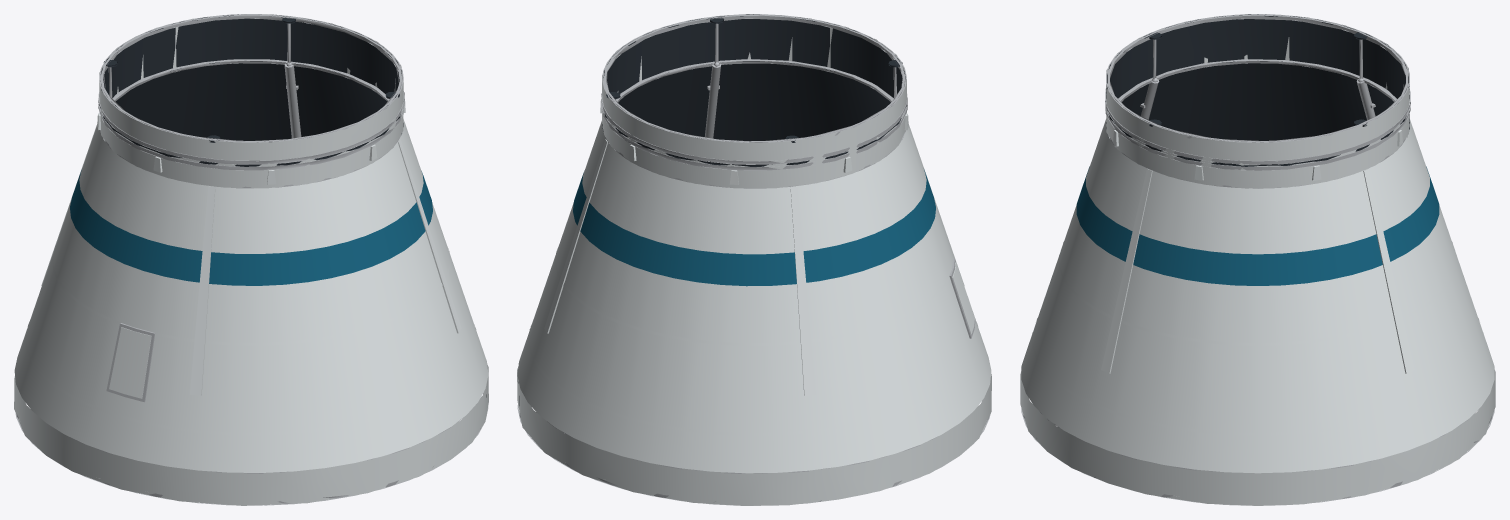
File: interstage_pneumatic_d84_to_d54.glb
The picture shows the model from 3 angles, left to right: view 1: azimuth 30°, elevation 25°; view 2: azimuth 150°, elevation 25°; view 3: azimuth 270°, elevation 25°; orthographic projection.
Parts seen in each view (by area): view 1: interstage_pneumatic_d84_to_d54_mesh; view 2: interstage_pneumatic_d84_to_d54_mesh; view 3: interstage_pneumatic_d84_to_d54_mesh.
Part boxes in pixels (box(x1,y1,x2,y2)): interstage_pneumatic_d84_to_d54_mesh: box(14, 14, 488, 505); interstage_pneumatic_d84_to_d54_mesh: box(517, 14, 991, 505); interstage_pneumatic_d84_to_d54_mesh: box(1020, 14, 1495, 505).
Size of the model in its own units: 8.4 by 6.4 by 8.42.
